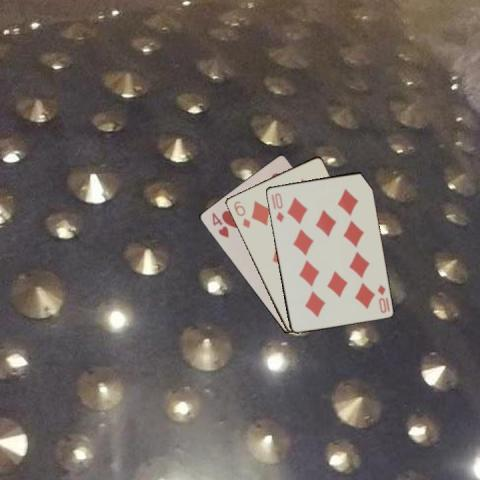10d: (268, 190, 285, 223), (374, 281, 388, 314)
4h: (209, 210, 230, 240)
6d: (231, 198, 251, 229)
